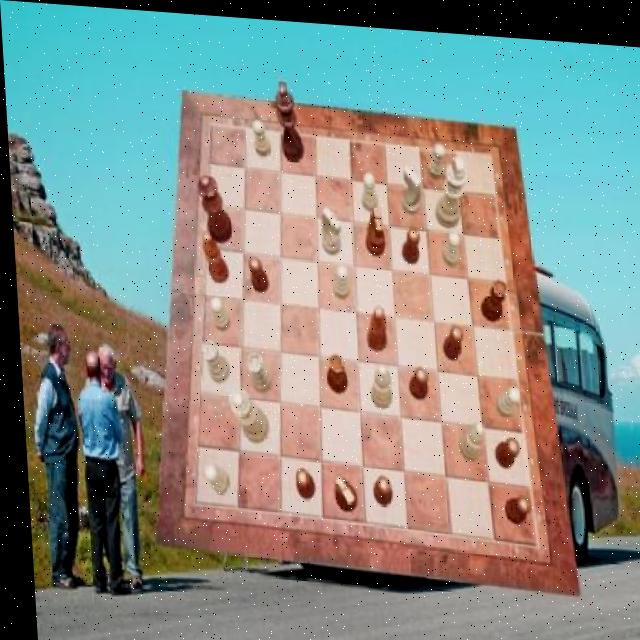bishop: (199, 228, 226, 280), (361, 299, 385, 345)
black-bishop: (272, 76, 302, 159)
black-king: (361, 201, 383, 253), (327, 469, 352, 507)
black-knight: (488, 429, 514, 463), (437, 317, 460, 354), (498, 488, 526, 517), (403, 360, 425, 395), (244, 252, 265, 288), (398, 221, 418, 258), (366, 469, 387, 501), (290, 463, 309, 495)
black-pawn: (194, 171, 231, 241)
black-queen: (476, 272, 506, 317), (321, 347, 344, 390)
black-rook: (453, 413, 481, 454), (364, 357, 387, 404)
white-bishop: (429, 148, 468, 224)
white-king: (398, 160, 421, 210), (318, 203, 340, 251)
white-knight: (490, 378, 518, 411), (198, 459, 224, 492), (425, 135, 445, 174), (438, 223, 458, 261), (206, 293, 227, 329), (252, 116, 271, 155), (358, 167, 376, 206), (328, 260, 347, 296)
white-pawn: (223, 384, 263, 441)
white-queen: (198, 337, 227, 381), (243, 350, 269, 392)
